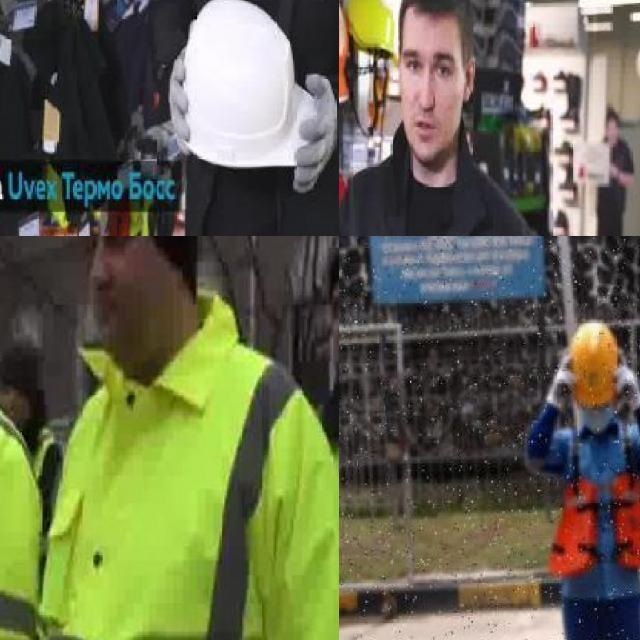apron: (292, 70, 338, 196), (168, 45, 194, 159), (544, 342, 578, 417), (612, 343, 640, 415)
